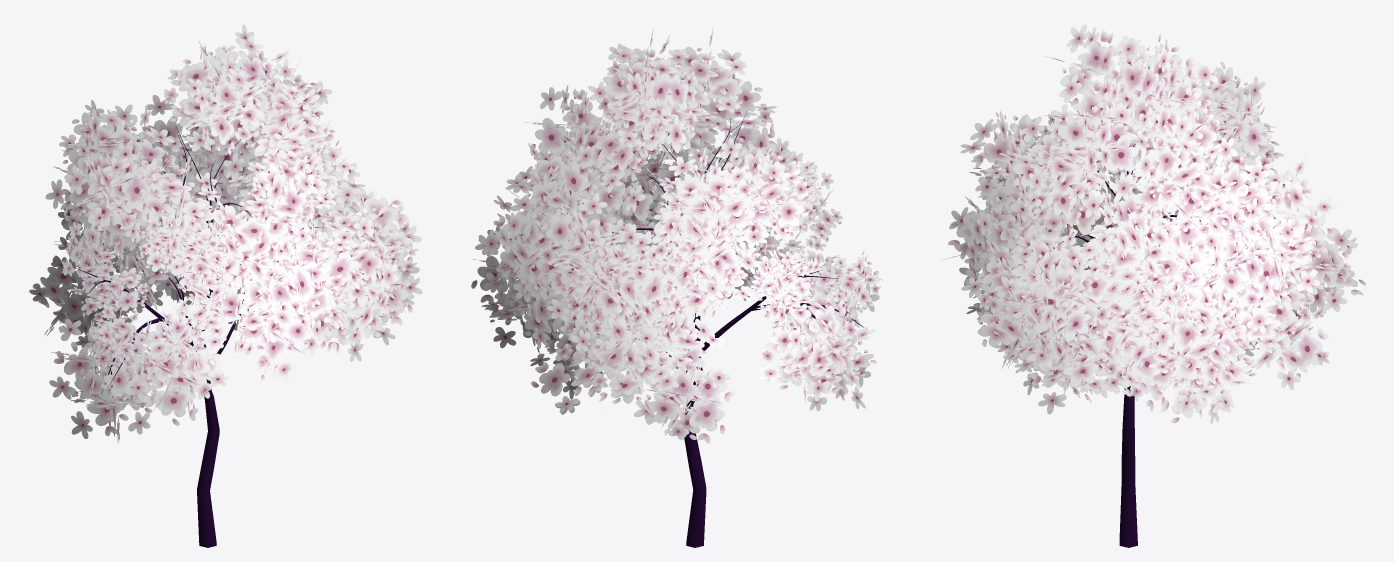
Rendered from Tree3.4_LOD1.fbx.
The picture shows the model from 3 angles, left to right: view 1: azimuth 30°, elevation 25°; view 2: azimuth 150°, elevation 25°; view 3: azimuth 270°, elevation 25°; orthographic projection. The views are drawn at different scales.
Visible parts, largest first — view 1: Leaves.002, Trunk.002; view 2: Leaves.002, Trunk.002; view 3: Leaves.002, Trunk.002.
Part boxes in pixels (x1,y1,x2,y2): Leaves.002: (29, 24, 422, 442); Trunk.002: (74, 127, 323, 547); Leaves.002: (471, 26, 882, 443); Trunk.002: (602, 112, 867, 547); Leaves.002: (943, 24, 1366, 424); Trunk.002: (1058, 101, 1200, 547).
Bounding box in the file's own units: 598 × 786 × 600.
